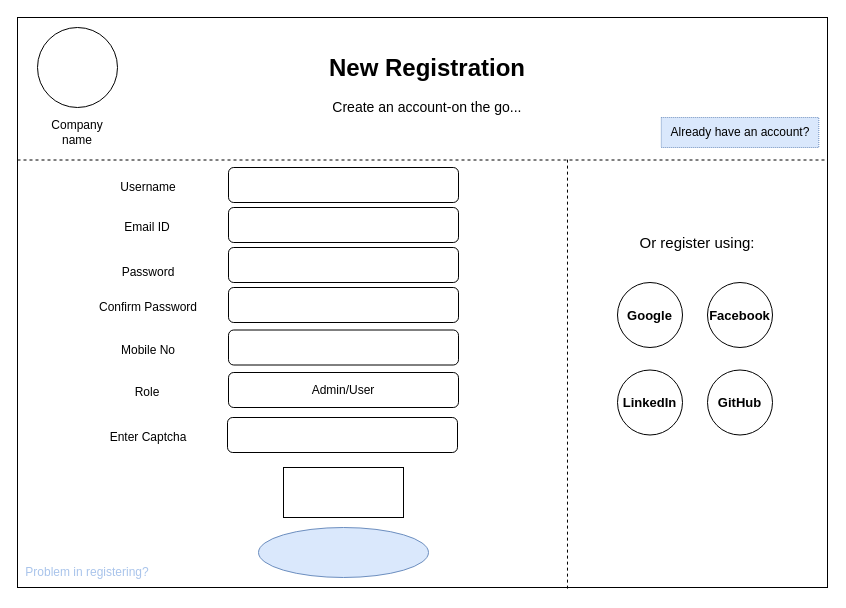
The diagram is 846 pixels wide and 608 high, and some of its shapes have lost their labels. The shapes that lost their labels are listed below. From the top down, each one's centre as x and y in pixels, then its label:
At (x=77, y=67): "Logo".
At (x=343, y=492): "Captcha".
At (x=343, y=552): "Register".
